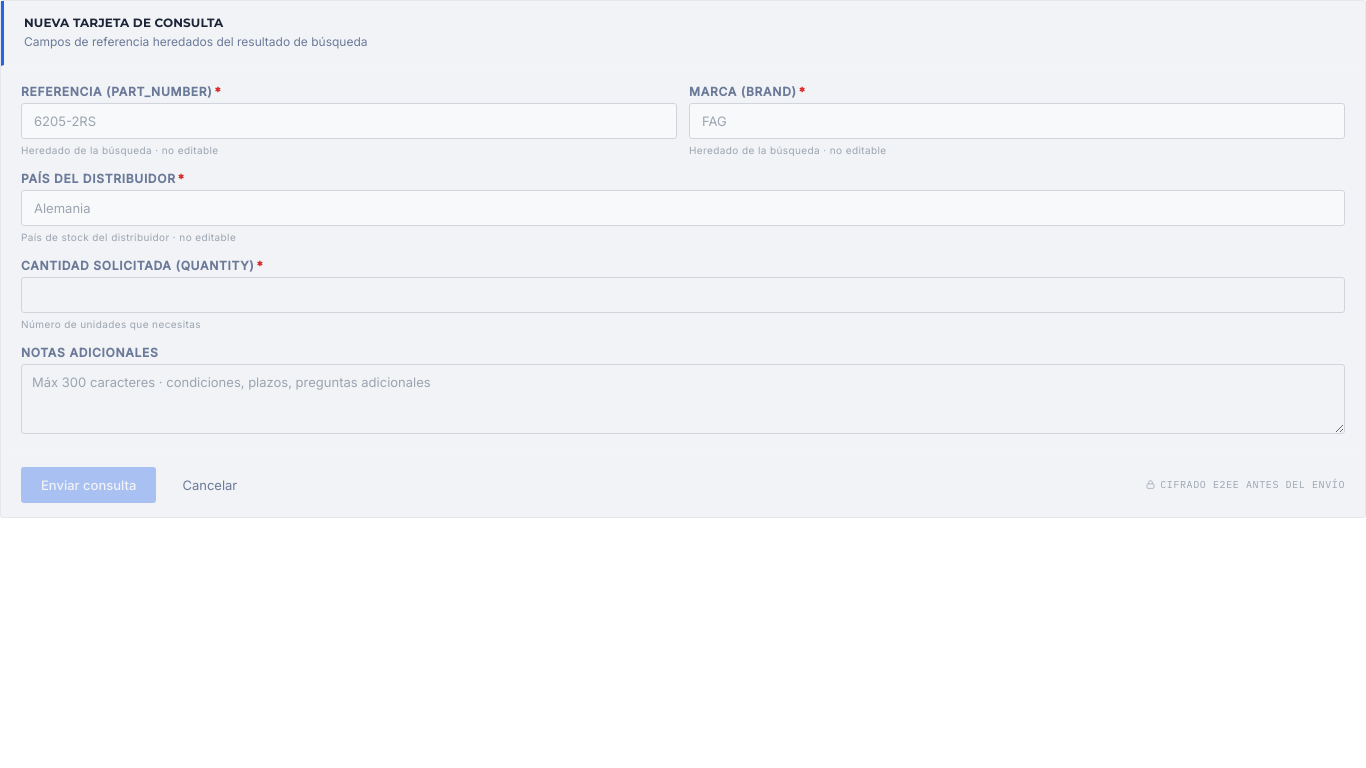
Test: MSG-03 · formulario de consulta · cuándo se puede enviar › con -3 se queda deshabilitado y explica por qué
Type "-3" into the number field labelled "Cantidad solicitada (quantity)" at (683, 295), box [21,277,1345,313]
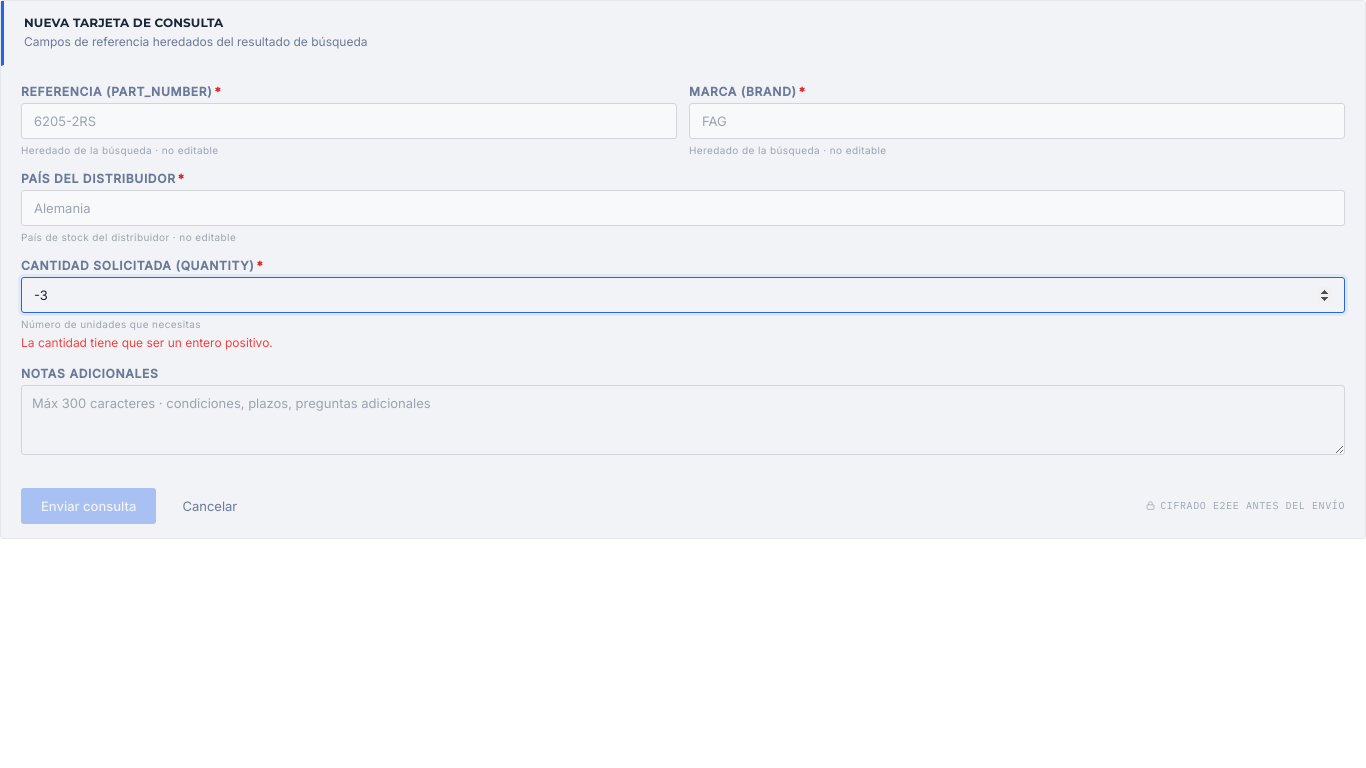
Check: the button "Enviar consulta" is disabled, box [21,488,156,524]
Check: the text "La cantidad tiene que ser un entero positivo." is shown, box [21,335,273,350]
